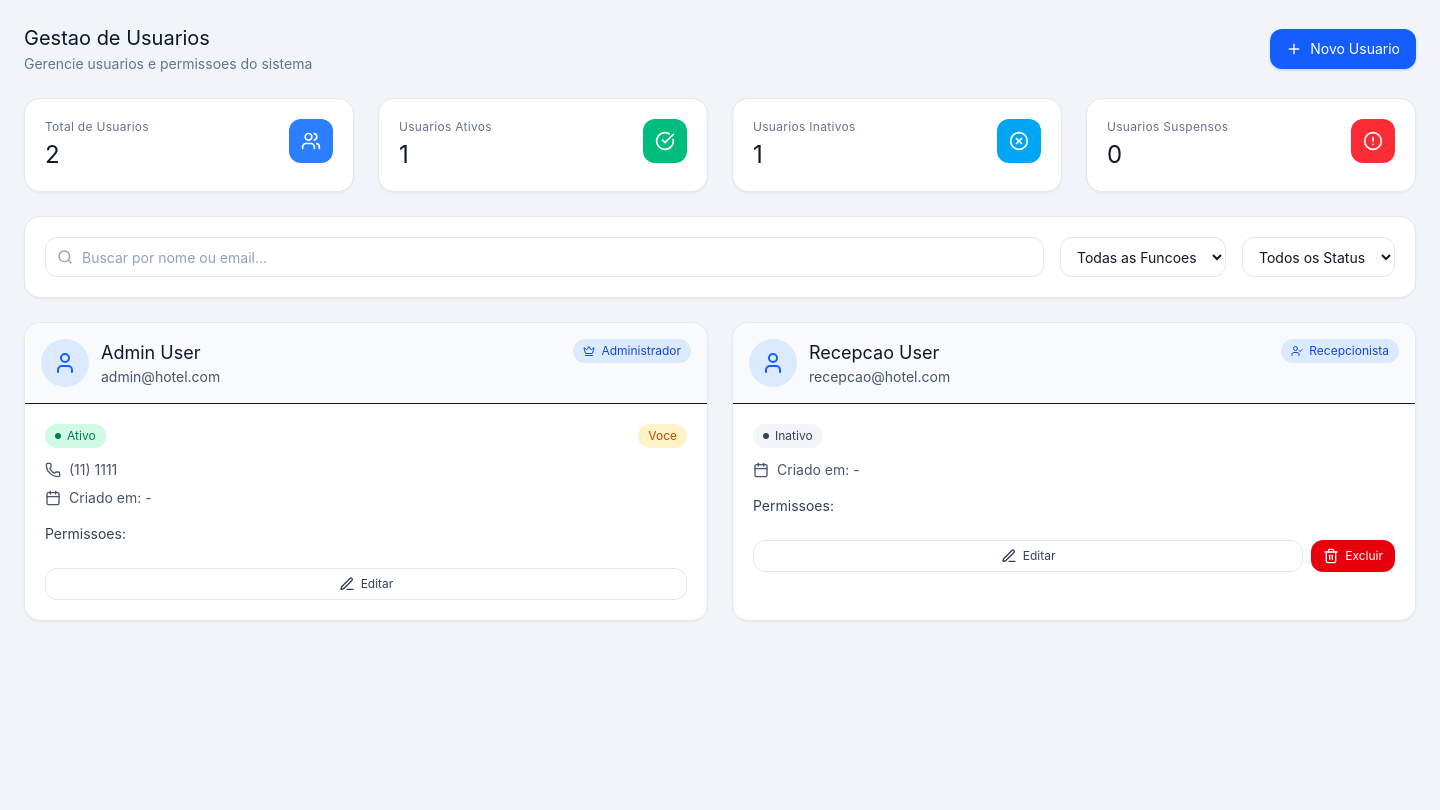
Test: Usuarios (expanded) › filters users by search
Type "Admin" into the search field with placeholder "Buscar por nome ou email...". click: (544,257)
box: [45,237,1044,277]
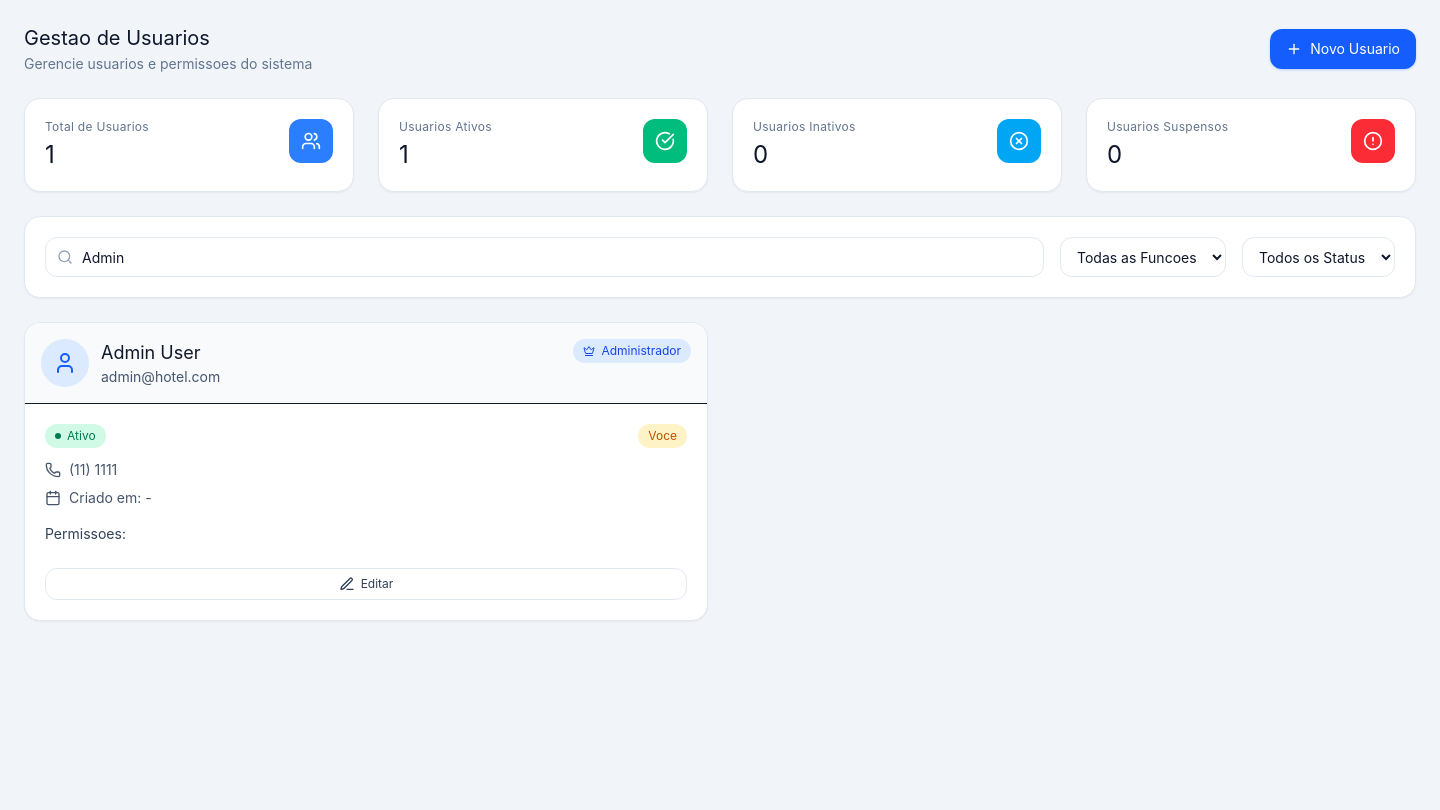
Expected: the heading "Admin User" is shown, [101,342,200,363]
Now the heading "Recepcao User" is gone
